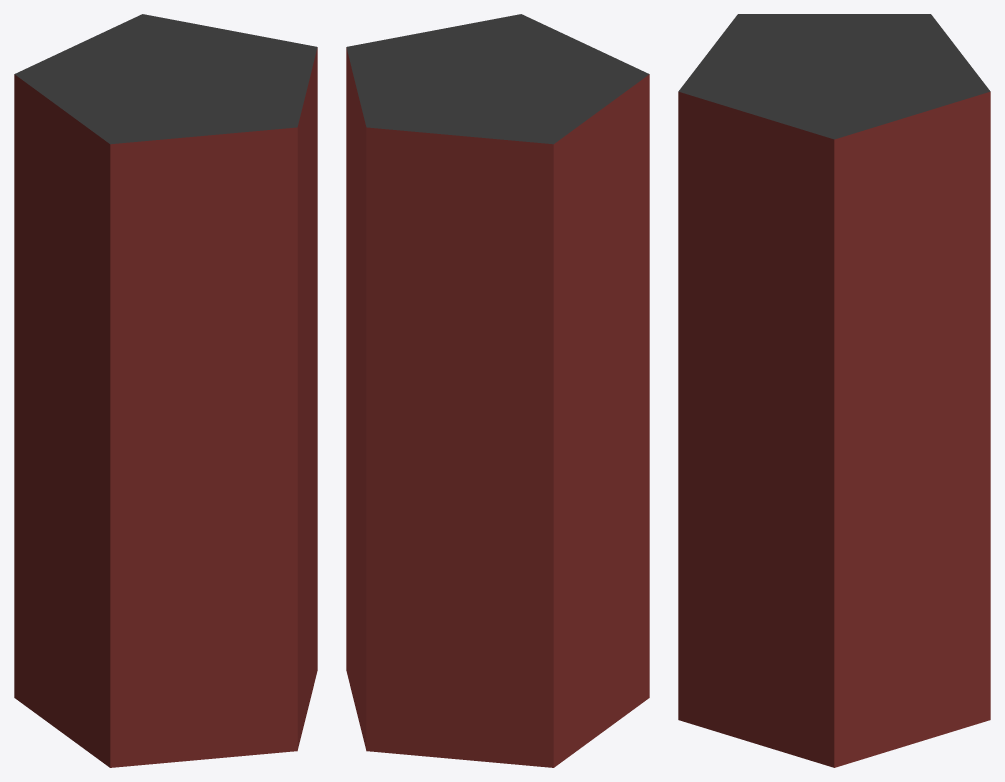
File: Can_1.fbx
3 renders of one model, left to right at view 1: azimuth 30°, elevation 25°; view 2: azimuth 150°, elevation 25°; view 3: azimuth 270°, elevation 25°, orthographic.
Visible parts, largest first — view 1: Can_1; view 2: Can_1; view 3: Can_1.
Boxes of the visible parts, <box> form: Can_1: <box>14,14,317,767</box>; Can_1: <box>346,14,649,767</box>; Can_1: <box>678,14,990,767</box>.
Size of the model in its own units: 0.3681 by 0.8592 by 0.387.
